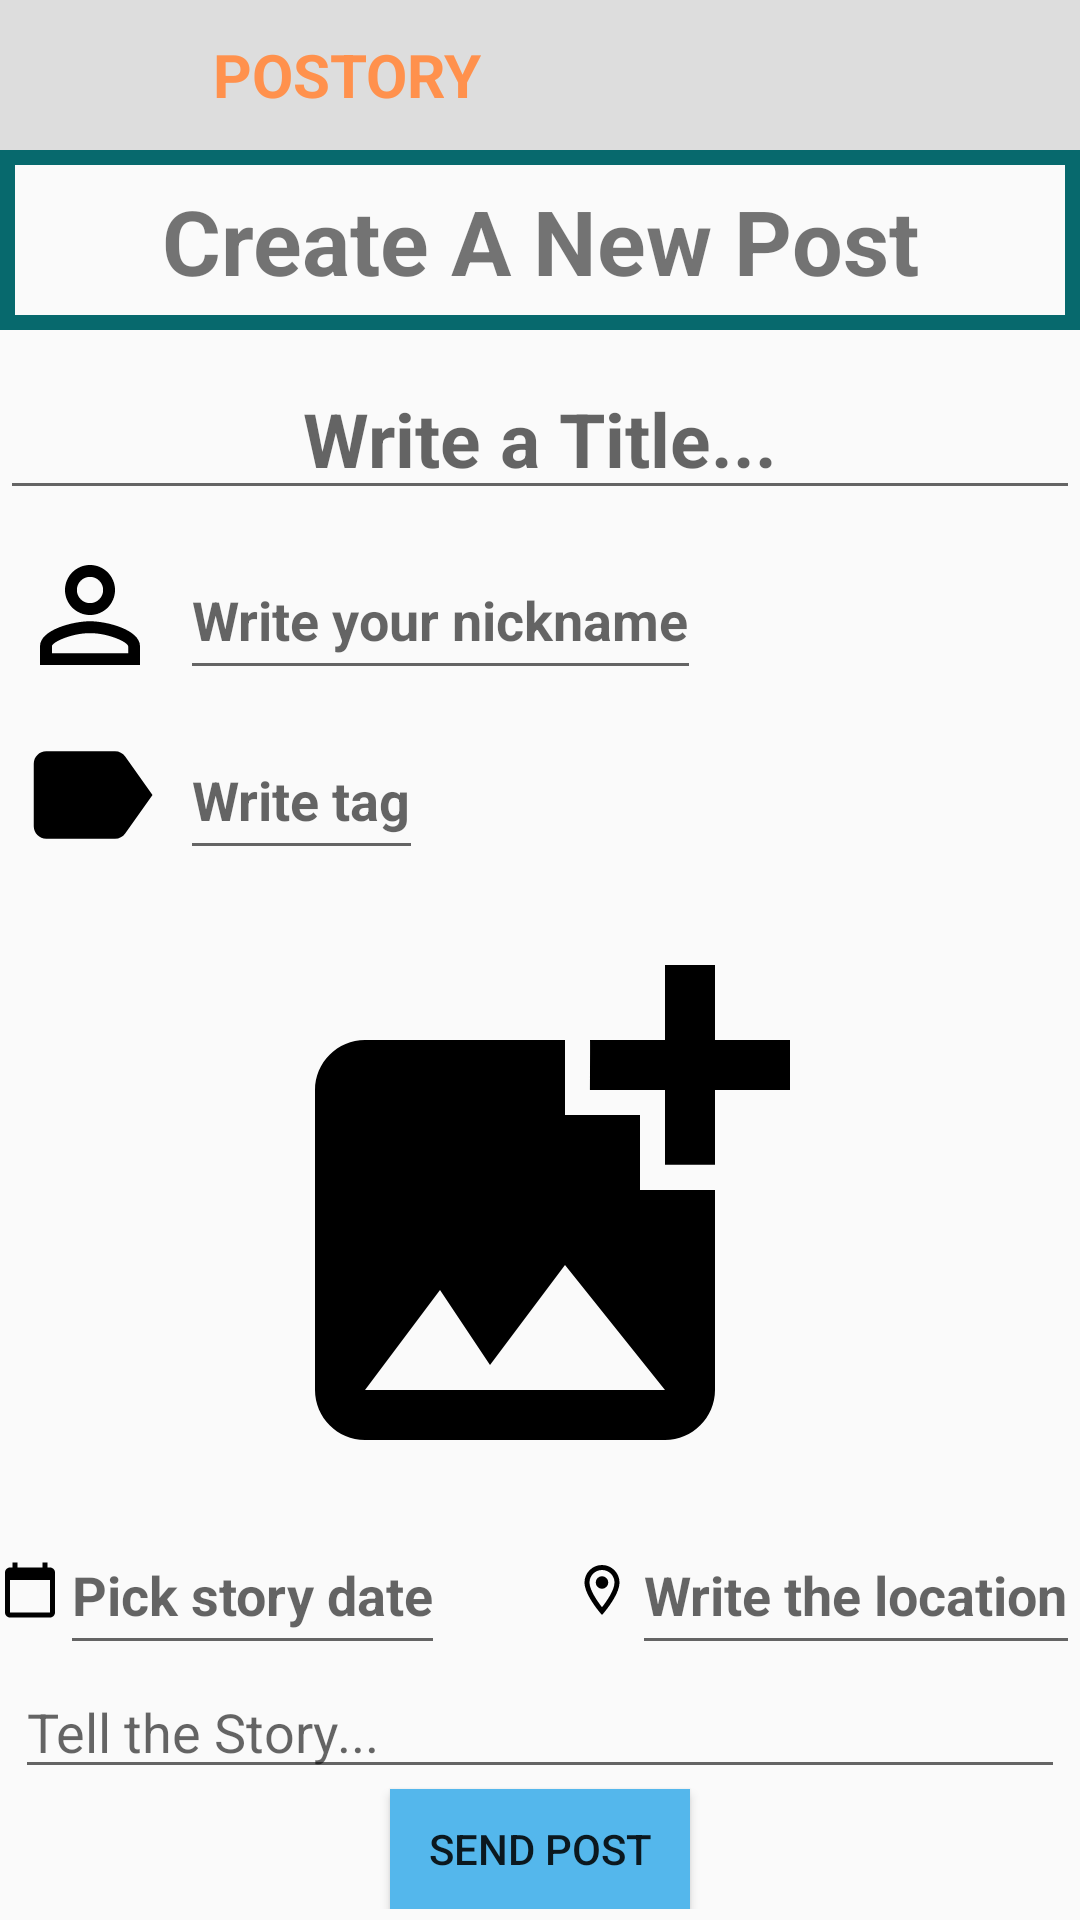

Named icons in this screenshot (1080*1920) and their centers, (x=x, y=y):
calendar today: (x=30, y=1590)
label: (x=93, y=795)
location on: (x=602, y=1590)
person: (x=90, y=615)
